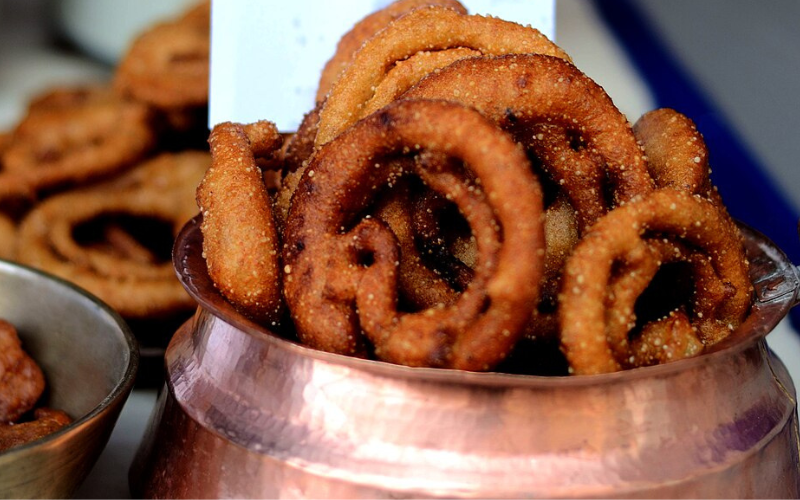sel_roti: (294, 107, 537, 364), (572, 191, 749, 349), (198, 122, 281, 300), (328, 10, 561, 60)
